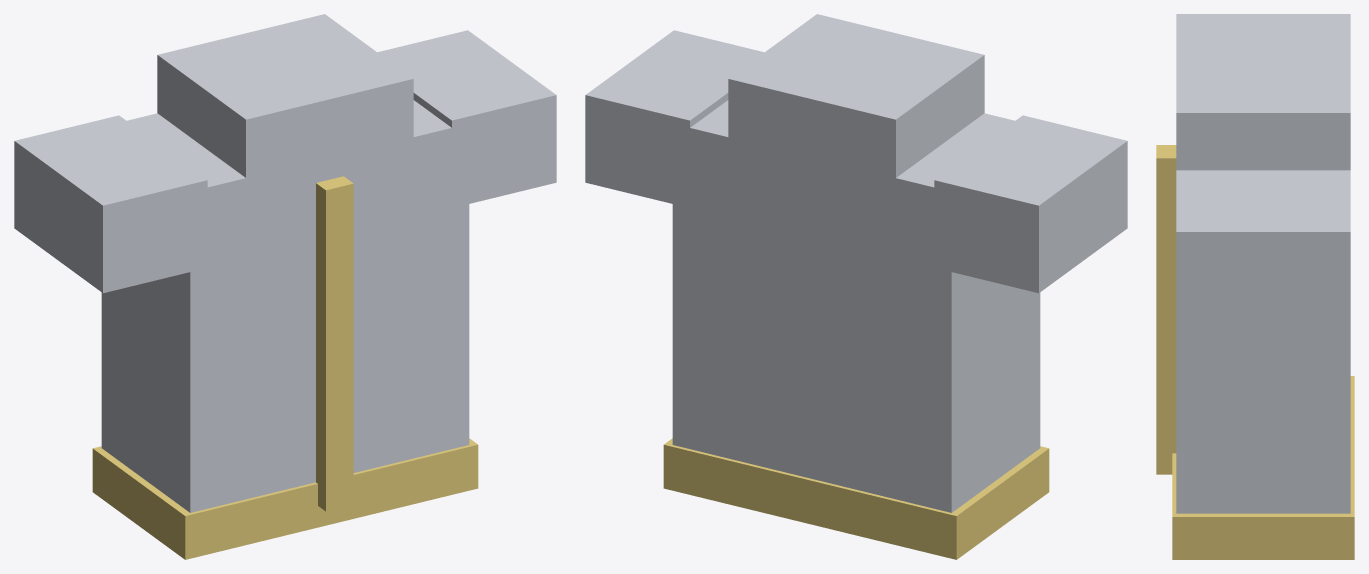
File: chestplate.glb
3 views of the same model, side by side, from view 1: azimuth 30°, elevation 25°; view 2: azimuth 150°, elevation 25°; view 3: azimuth 270°, elevation 25° (orthographic).
Parts seen in each view (by area): view 1: chestplate; view 2: chestplate; view 3: chestplate.
Boxes of the visible parts, x1=… form: chestplate: x1=14, y1=14, x2=556, y2=559; chestplate: x1=585, y1=14, x2=1127, y2=559; chestplate: x1=1156, y1=14, x2=1354, y2=559.
Size of the model in its own units: 0.65 by 0.58 by 0.25.
